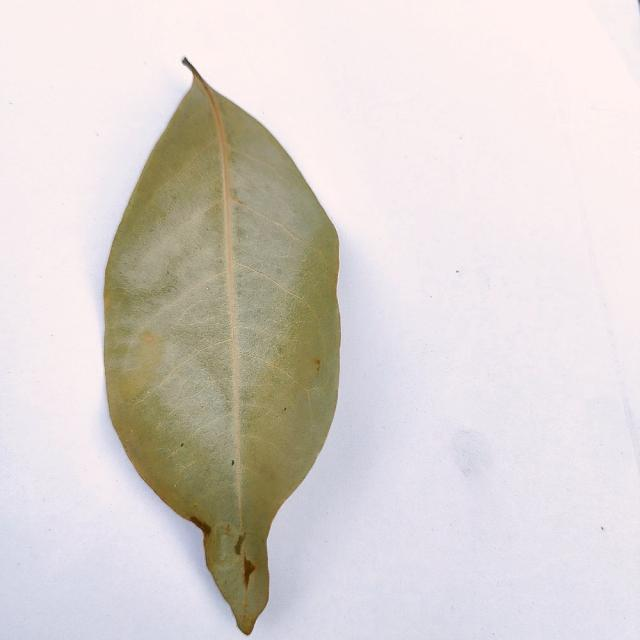Dry_Leaf-Lychee: (102, 61, 342, 637)
